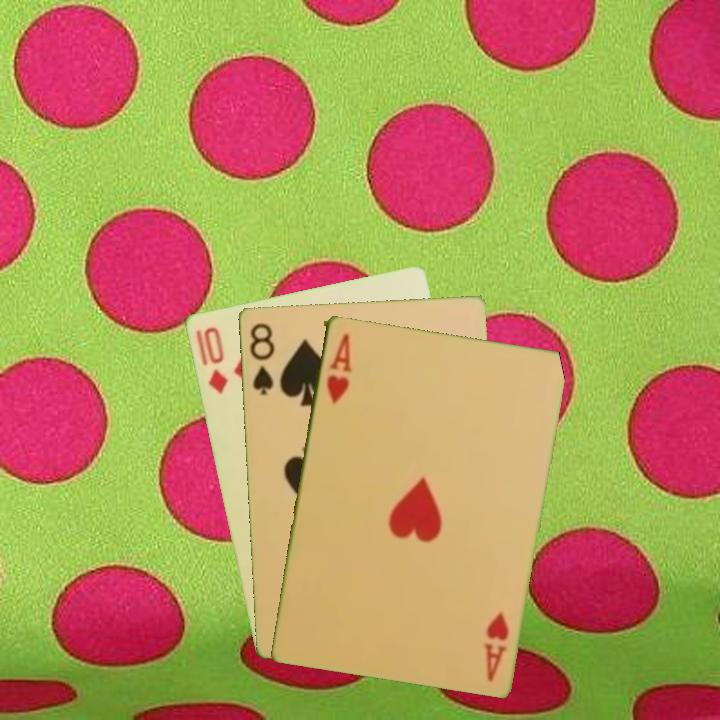10d: (191, 323, 231, 396)
8s: (245, 319, 277, 398)
Ah: (322, 329, 353, 406), (482, 607, 511, 684)
